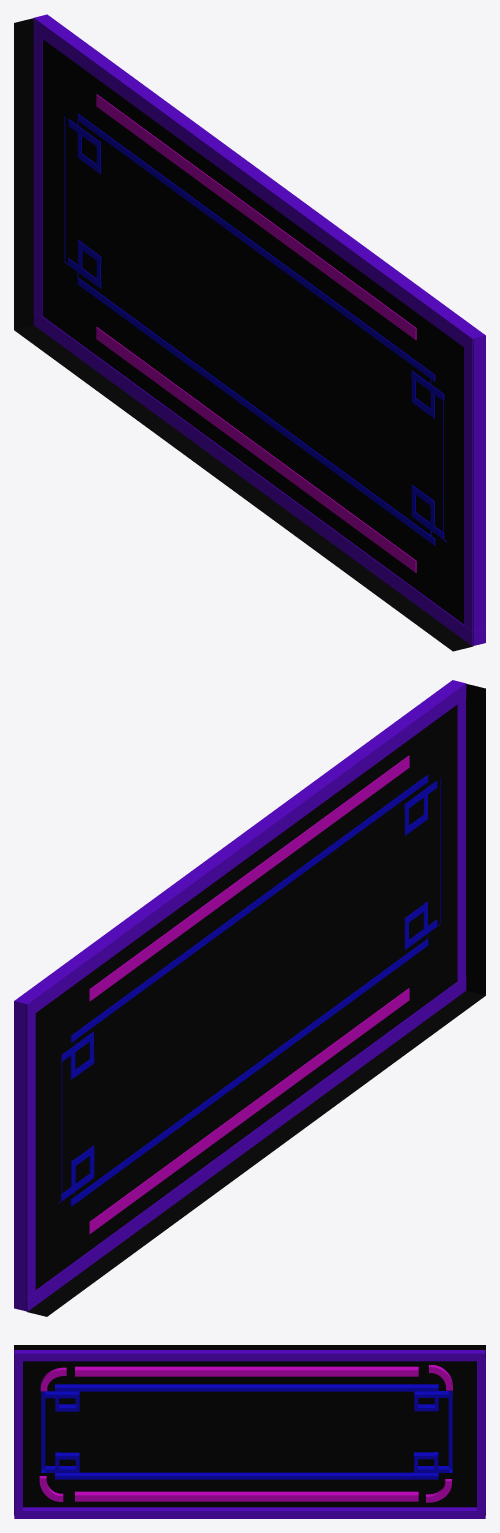
The model's file is Tengu Sign.fbx.
3 views of the same model, one above another, from view 1: azimuth 30°, elevation 25°; view 2: azimuth 150°, elevation 25°; view 3: azimuth 270°, elevation 25° (orthographic). The views are drawn at different scales.
Visible parts, largest first — view 1: Board (×4); view 2: Board (×4); view 3: Board (×4), Corner 1, Corner 2, Corner 4, Corner 3.
Part boxes in pixels (bbox=[...]): Board (×4): bbox=[14, 14, 485, 651]; Board (×4): bbox=[14, 680, 485, 1316]; Board (×4): bbox=[14, 1345, 485, 1518]; Corner 1: bbox=[40, 1367, 66, 1391]; Corner 2: bbox=[39, 1476, 63, 1501]; Corner 4: bbox=[426, 1479, 451, 1502]; Corner 3: bbox=[429, 1365, 452, 1390].
Size of the model in its own units: 45.24 by 401 by 1037.
